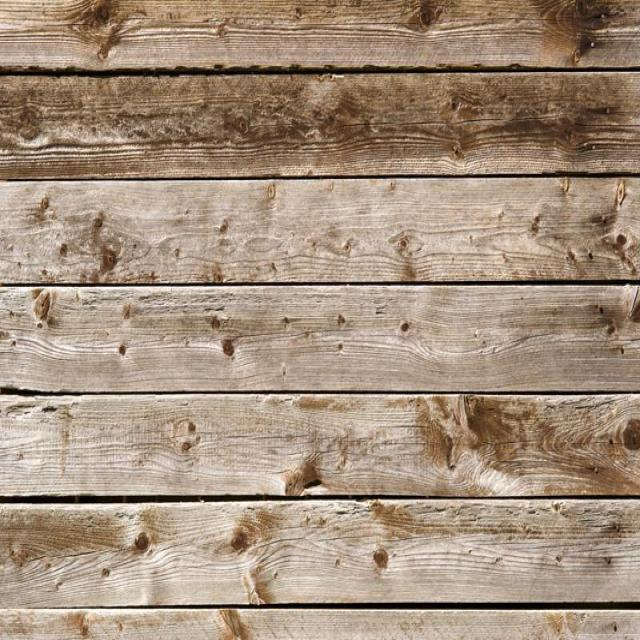have-wooden-eyes: (0, 1, 640, 71)
